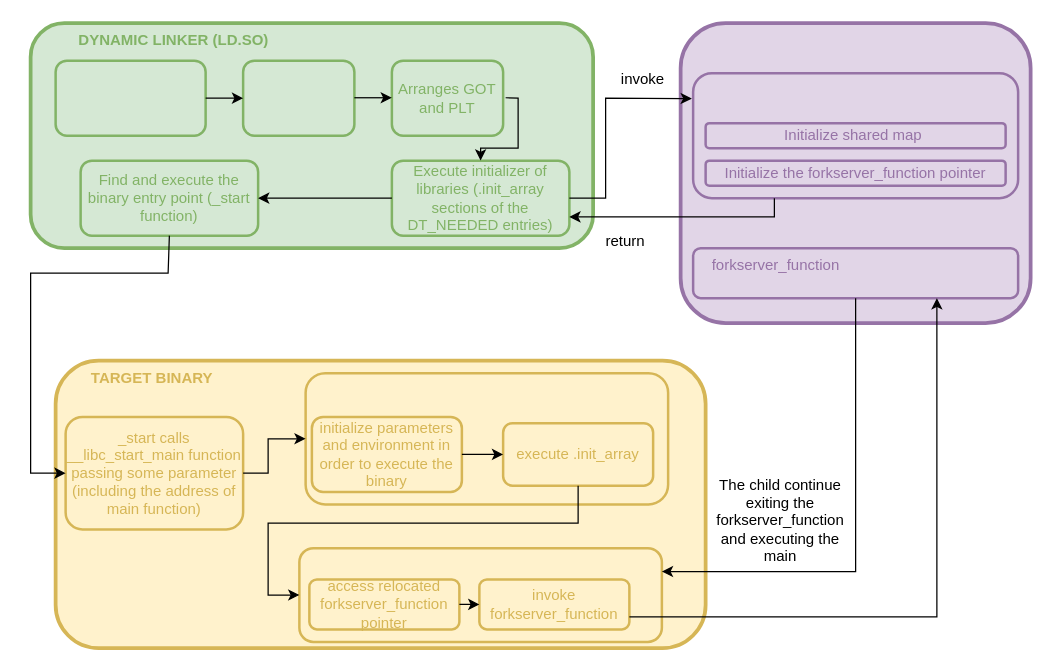
Image size: 1054x671. Some labels were removed from this diagram. Here are the shapes that lost their labels. From the top down, the box of each, then its label:
(54, 59, 206, 136): Loads DT_NEEDED entries
(241, 59, 355, 136): Resolve the relocations
(691, 71, 1019, 199): __attribute__((constructor)) void init()
(678, 21, 1032, 324): INJECTED SHARED OBJECT
(304, 371, 669, 505): __libc_start_main function
(298, 546, 662, 642): main function
